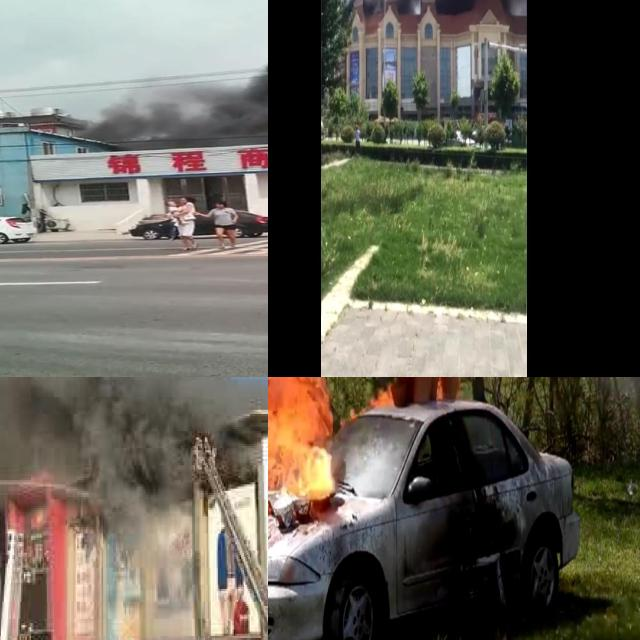fire: (361, 377, 463, 413)
smoke: (0, 377, 241, 508), (90, 0, 268, 146)
